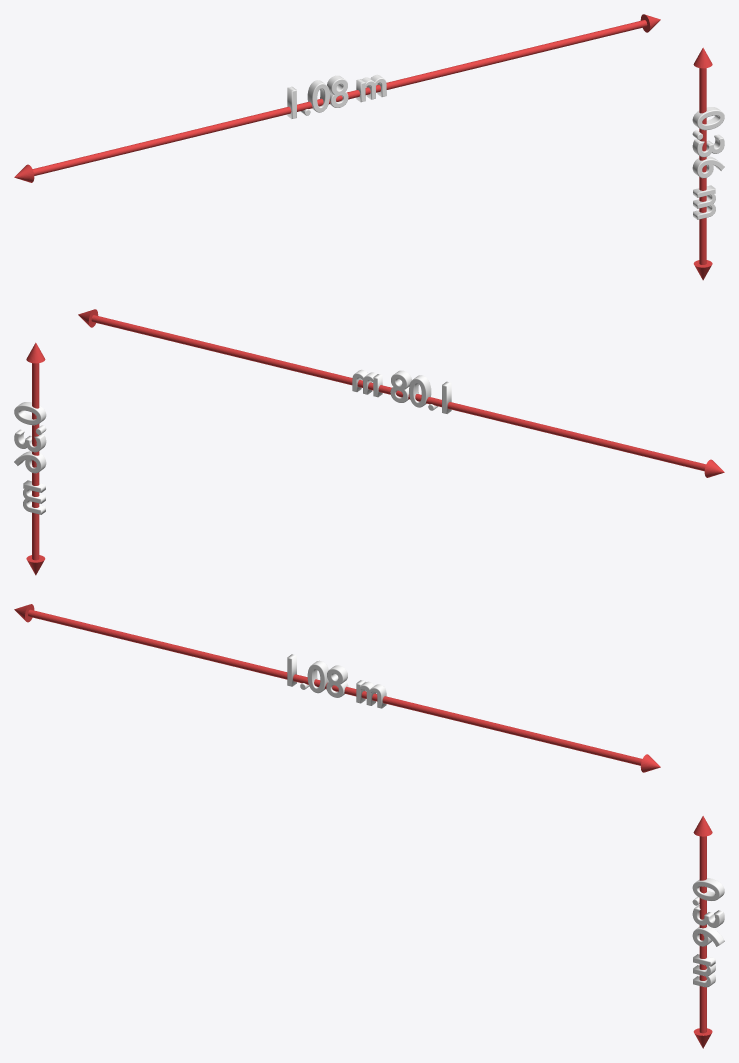
The model's file is dimentionFDDM2.gltf.
3 renders of one model, top to bottom at view 1: azimuth 30°, elevation 25°; view 2: azimuth 150°, elevation 25°; view 3: azimuth 330°, elevation 25°, orthographic.
Visible parts, largest first — view 1: Text.001; view 2: Text.001; view 3: Text.001.
Part boxes in pixels (x1,y1,x2,y2): Text.001: (14, 14, 724, 280); Text.001: (14, 309, 724, 575); Text.001: (14, 604, 724, 1048).
Bounding box in the file's own units: 19.05 × 7.52 × 0.4388.
